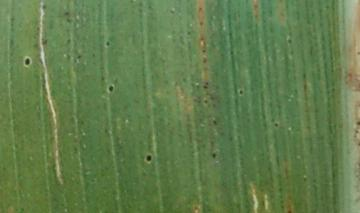tarspot: (142, 151, 155, 164), (21, 54, 33, 68), (235, 86, 247, 99), (106, 83, 116, 93), (104, 38, 113, 48), (200, 46, 209, 55), (272, 120, 280, 130), (211, 151, 217, 160)
